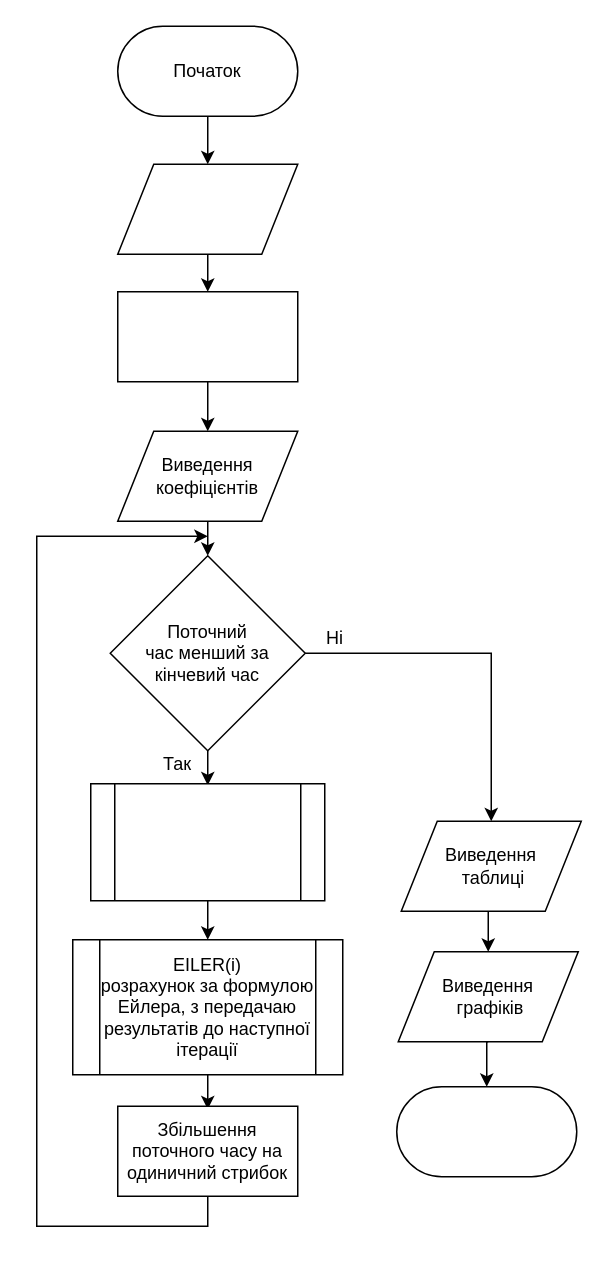
This 608x1265 diagram has some shape labels left out. Here are the shapes that lost their labels. From the top down, the centre of each, then its label:
At [207,208]: "Введення початкових даних".
At [207,336]: "Розрахунок коефіцієнтів".
At [207,841]: "DIN(i) розрахунок значень за розв'язком диференціального рівняння".
At [486,1131]: "Кінець".
